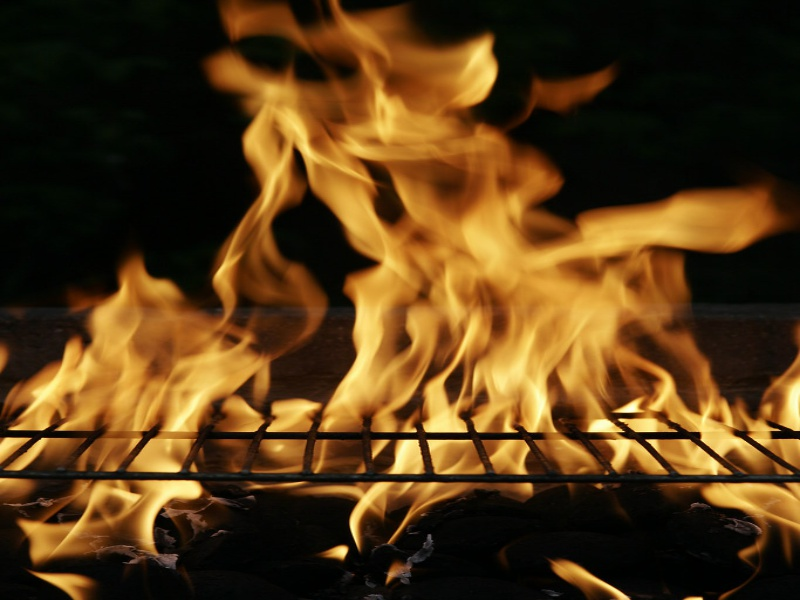fire: (1, 1, 800, 596)
